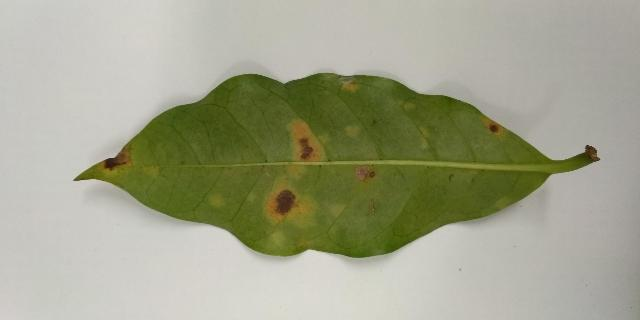miner: (263, 120, 327, 244), (88, 140, 135, 173), (481, 112, 507, 138), (350, 164, 380, 186), (142, 165, 158, 176), (421, 127, 429, 149), (399, 101, 416, 111), (331, 205, 345, 216), (342, 82, 357, 91), (211, 195, 223, 206), (348, 127, 357, 135)
